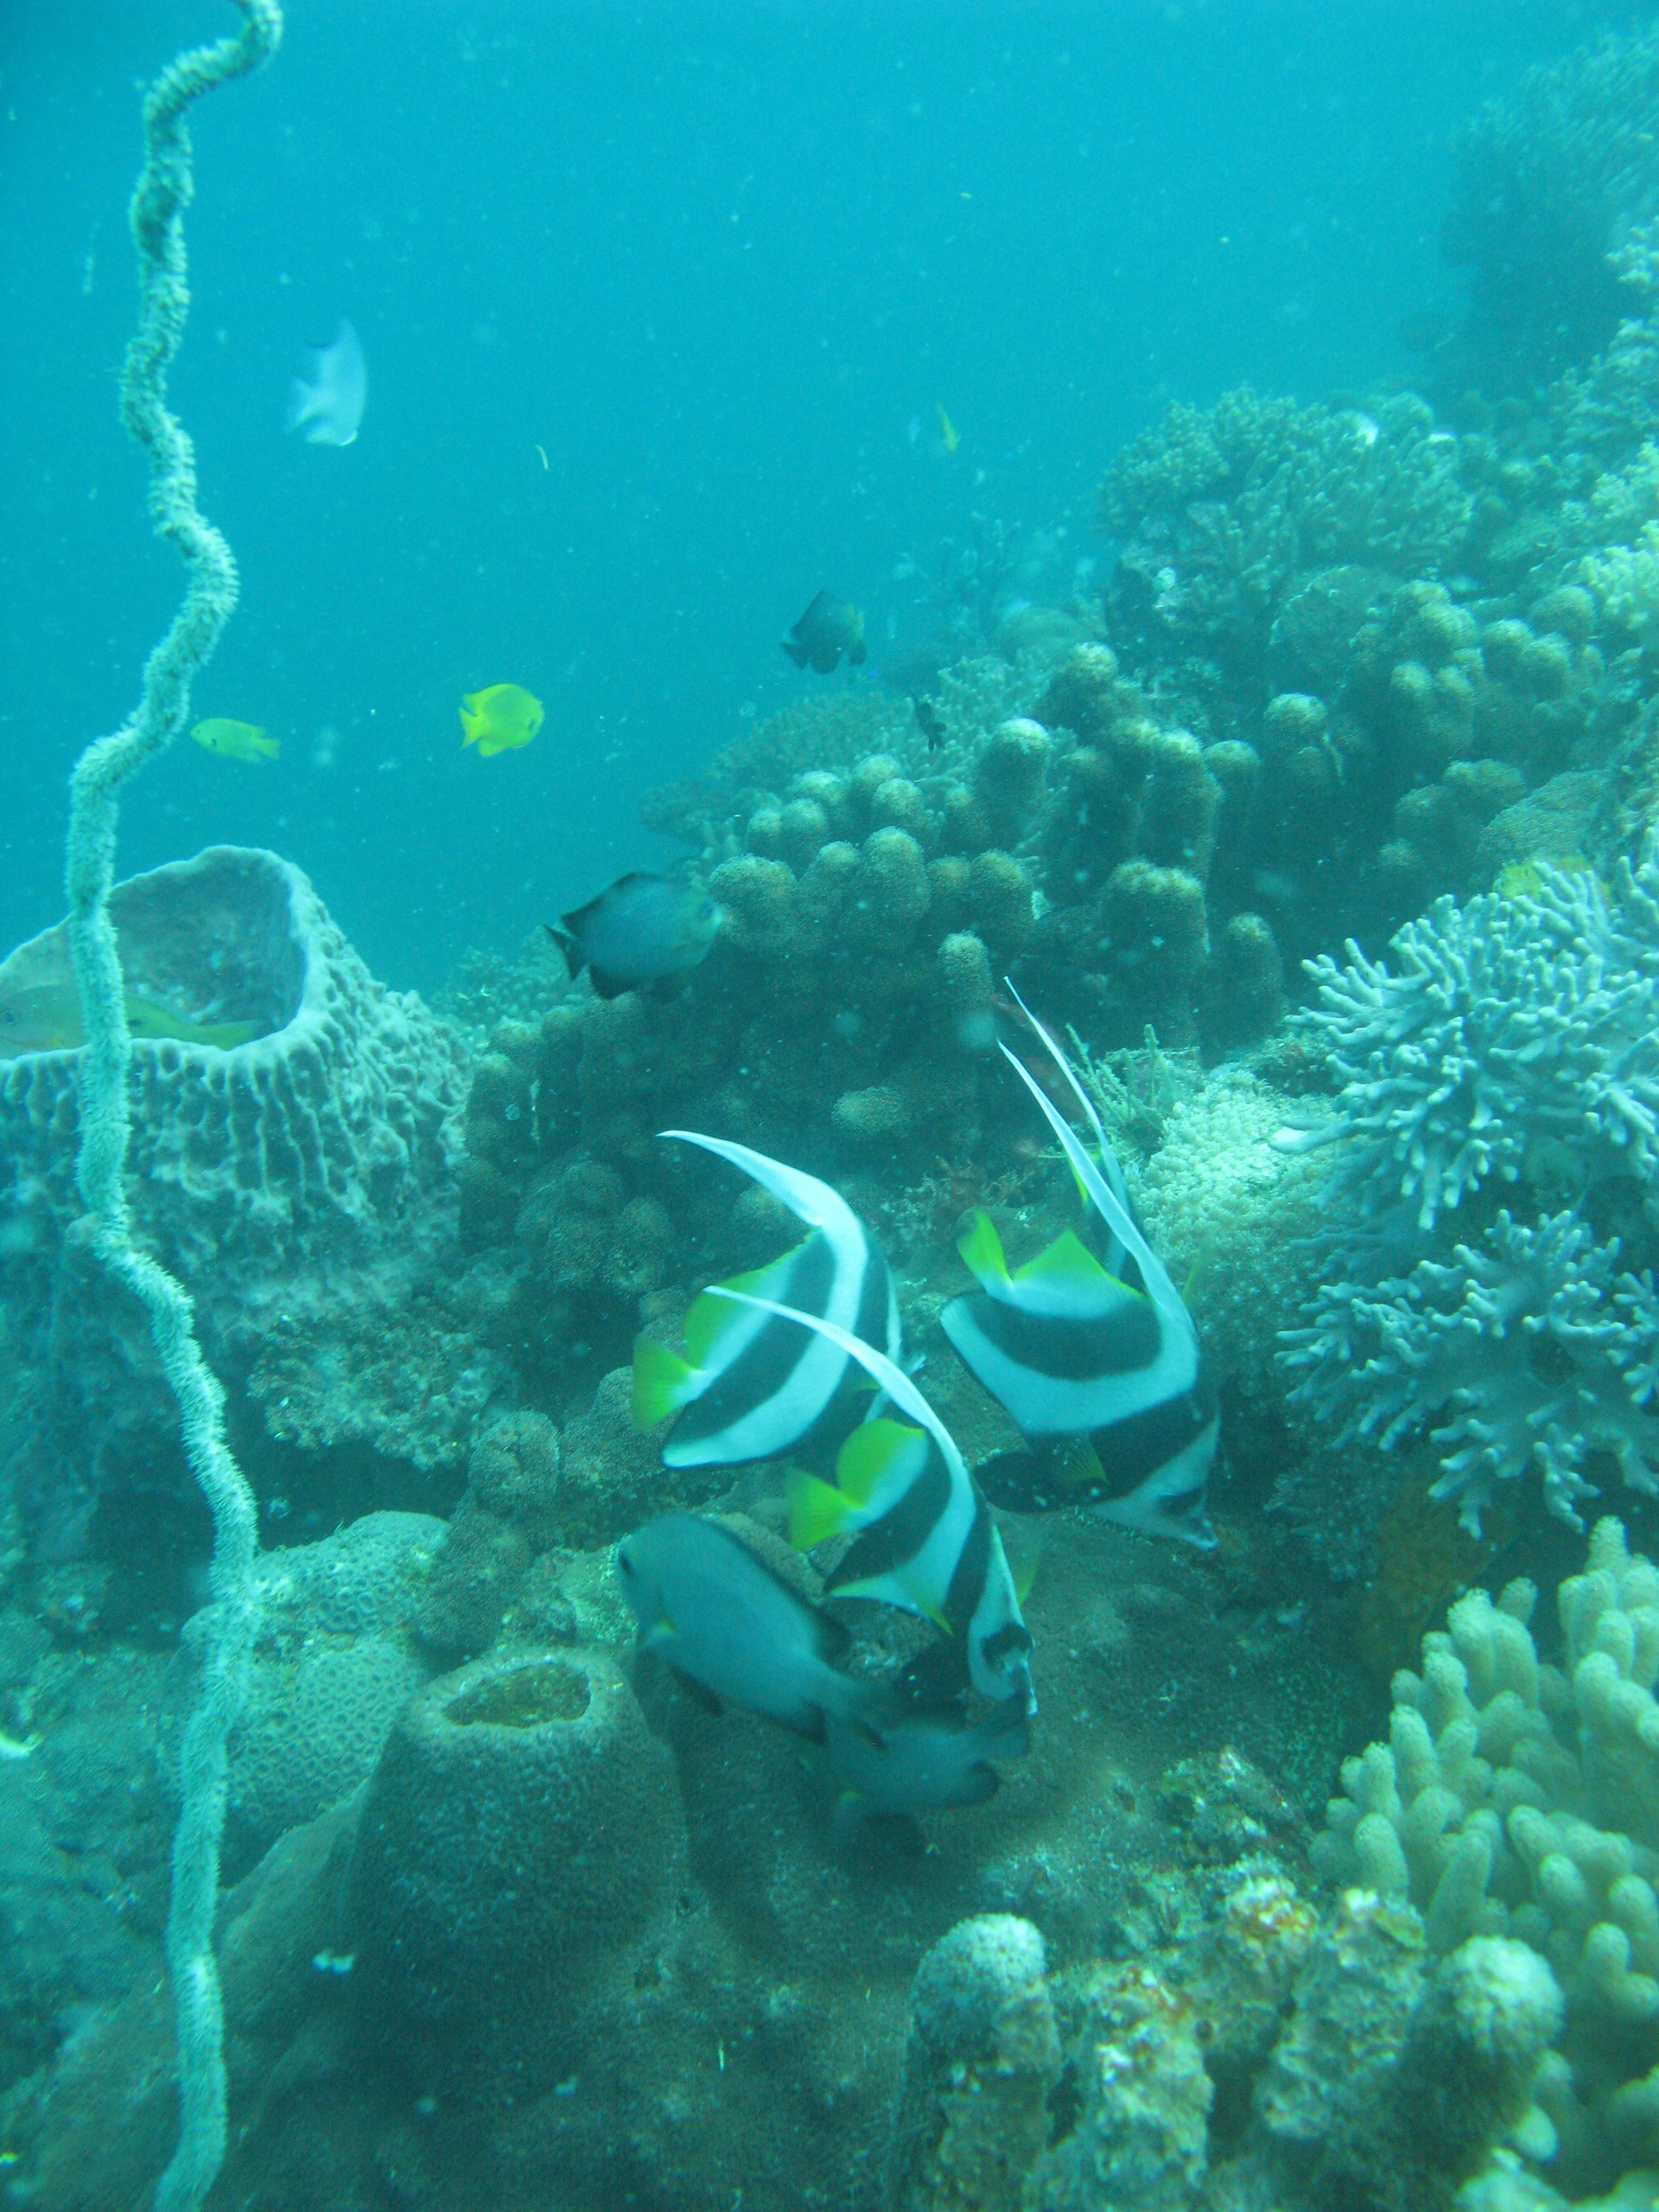Heniochus diphreutes: (951, 1019, 1284, 1571), (732, 1289, 1054, 1784)
